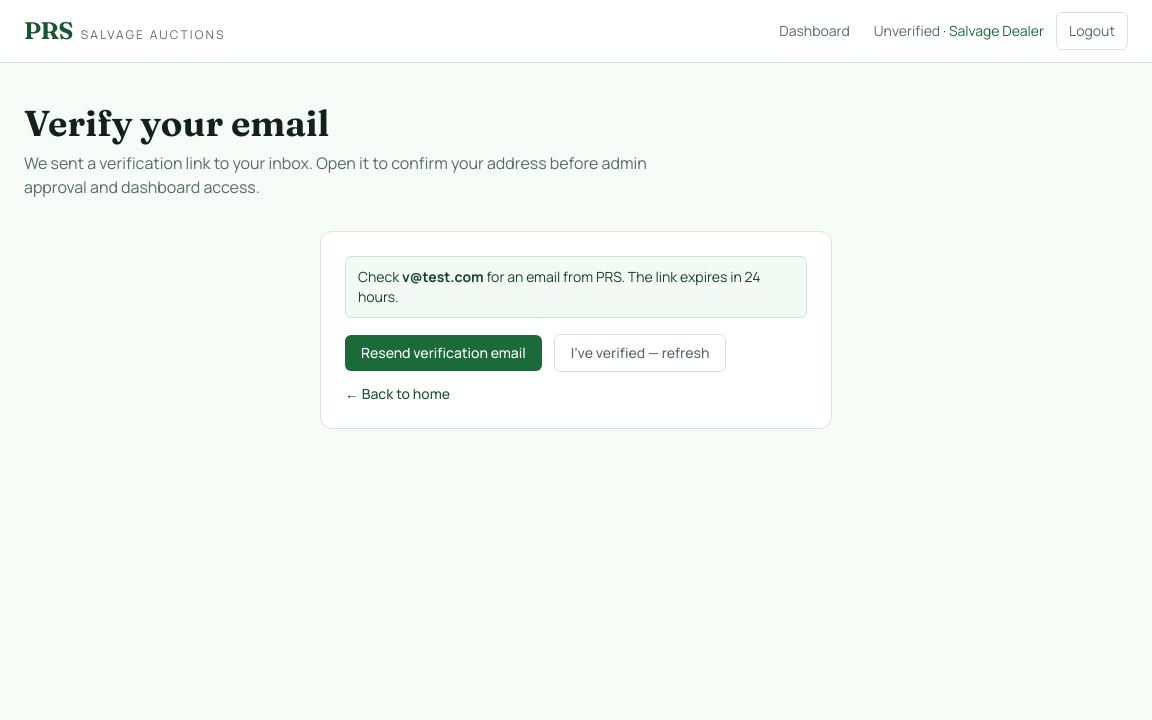
Scenario: VerifyEmailPage › shows resend and can request a new email
Expected: the heading "Verify your email" is shown, [24,101,329,145]
What coordinates should you click on to do the following:
click the button "Resend verification email"
I would click on:
 (443, 353)
Its box is [345,335,542,371].
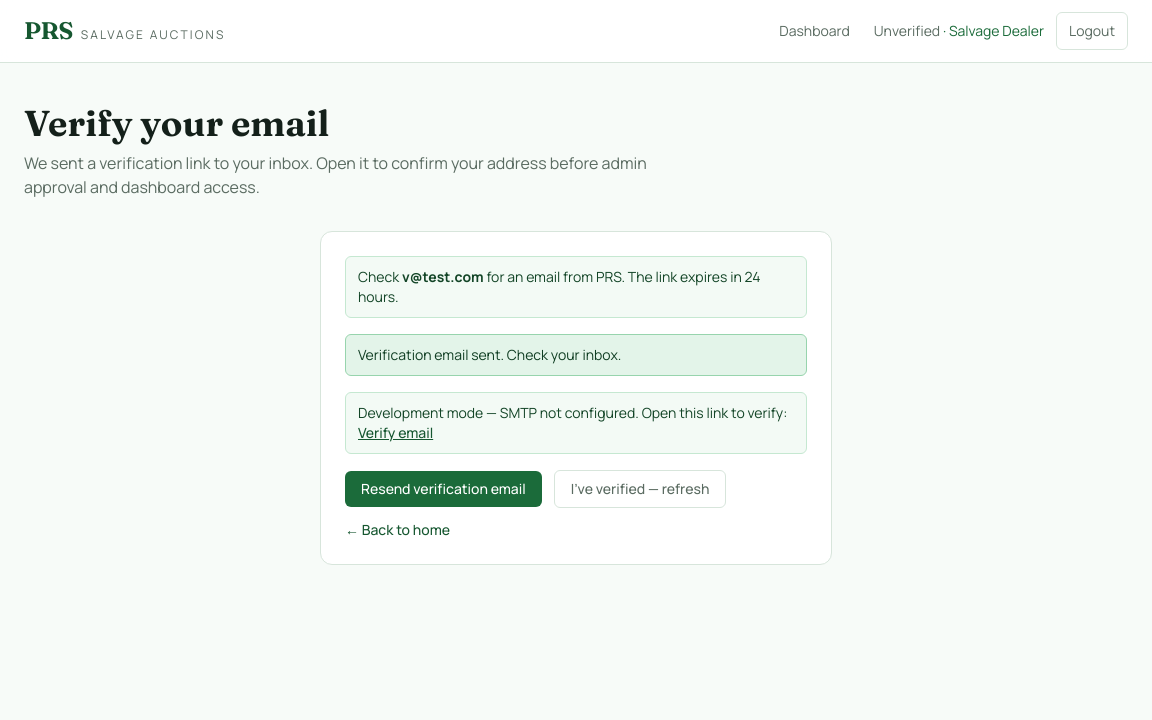
Result: the text "Verification email sent. Check your inbox." is shown at [345,334,807,376]
Result: the link "Verify email" is shown at [358,423,433,442]
